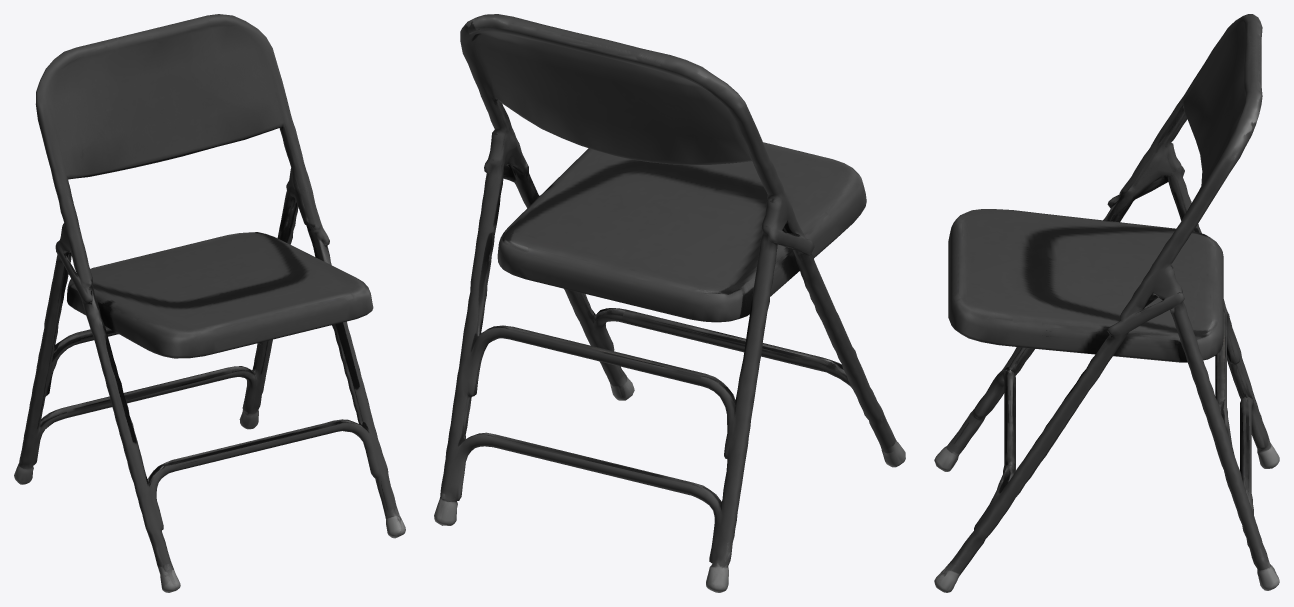
Rendered from Titan_Series_Premium__0320031133_texture.glb.
3 views of the same model, side by side, from view 1: azimuth 30°, elevation 25°; view 2: azimuth 150°, elevation 25°; view 3: azimuth 270°, elevation 25° (orthographic). The views are drawn at different scales.
Parts seen in each view (by area): view 1: Mesh_0; view 2: Mesh_0; view 3: Mesh_0.
Boxes of the visible parts, <box> form: Mesh_0: <box>14,14,405,592</box>; Mesh_0: <box>434,14,905,592</box>; Mesh_0: <box>934,14,1279,592</box>.
Bounding box in the file's own units: 0.5426 × 0.9144 × 0.6027.
1 material, 1 textured.
